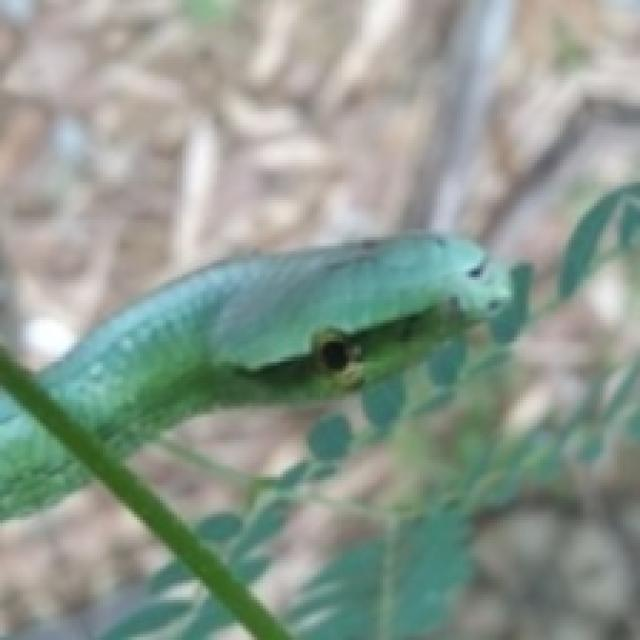red-tailed green ratsnake: (37, 234, 509, 454), (0, 394, 86, 514)
